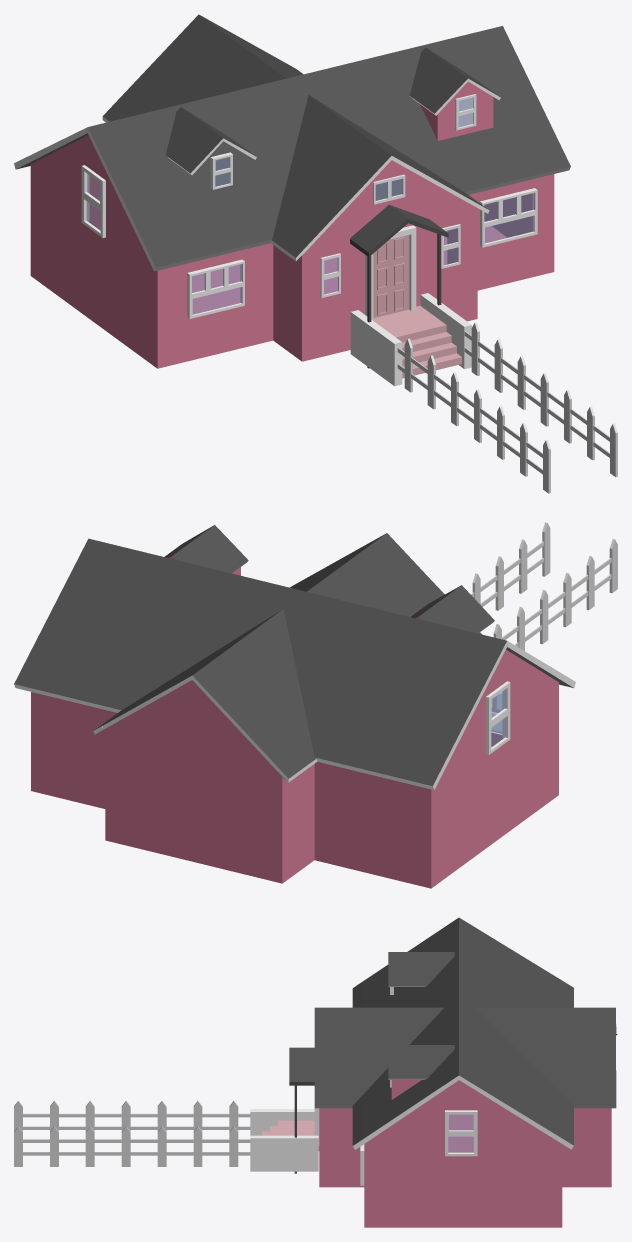
File: maison_level1_petites_barrieres.fbx
3 renders of one model, top to bottom at view 1: azimuth 30°, elevation 25°; view 2: azimuth 150°, elevation 25°; view 3: azimuth 270°, elevation 25°, orthographic. The views are drawn at different scales.
Parts seen in each view (by area): view 1: toit.002, Maison.002, toit2.002, Maison_avant.002, Barrieres_grandes.002, Fenetres_grandes.002, petit_toit.002, Muret_escalier.002, Escalier.002, Porte_entrée.002, Barrieres2.002, Toit_porche.002 (+7 smaller); view 2: toit.002, Maison.002, Maison_avant.002, toit2.002, petit_toit.002, Barrieres_grandes.002, Barrieres2.002, Fentres_cote.002; view 3: toit.002, Maison.002, toit2.002, Maison_avant.002, Barrieres_grandes.002, petit_toit.002, Muret_escalier.002, Barrieres2.002, Fentres_cote.002, Toit_porche.002, Escalier.002.
Part boxes in pixels (bbox=[...]): toit.002: bbox=[14, 26, 570, 271]; Maison.002: bbox=[30, 135, 554, 368]; toit2.002: bbox=[102, 14, 489, 261]; Maison_avant.002: bbox=[273, 160, 477, 361]; Barrieres_grandes.002: bbox=[404, 322, 617, 493]; Fenetres_grandes.002: bbox=[187, 188, 537, 318]; petit_toit.002: bbox=[165, 47, 500, 175]; Muret_escalier.002: bbox=[350, 293, 471, 386]; Escalier.002: bbox=[373, 305, 461, 378]; Porte_entrée.002: bbox=[373, 235, 409, 318]; Barrieres2.002: bbox=[397, 331, 609, 474]; Toit_porche.002: bbox=[350, 204, 448, 256]; toit.002: bbox=[14, 538, 575, 789]; Maison.002: bbox=[31, 650, 558, 888]; Maison_avant.002: bbox=[105, 680, 314, 883]; toit2.002: bbox=[93, 533, 481, 782]; petit_toit.002: bbox=[164, 525, 494, 633]; Barrieres_grandes.002: bbox=[472, 522, 617, 650]; Barrieres2.002: bbox=[471, 541, 611, 646]; Fentres_cote.002: bbox=[486, 681, 510, 754]; toit.002: bbox=[352, 917, 573, 1149]; Maison.002: bbox=[364, 1080, 562, 1227]; toit2.002: bbox=[314, 1007, 617, 1108]; Maison_avant.002: bbox=[319, 1108, 611, 1187]; Barrieres_grandes.002: bbox=[14, 1100, 238, 1166]; petit_toit.002: bbox=[388, 952, 454, 1079]; Muret_escalier.002: bbox=[250, 1109, 318, 1171]; Barrieres2.002: bbox=[23, 1113, 250, 1155]; Fentres_cote.002: bbox=[445, 1110, 477, 1156]; Toit_porche.002: bbox=[289, 1047, 314, 1085]; Escalier.002: bbox=[262, 1120, 319, 1150].
Bounding box in the file's own units: 1181 × 564 × 1909.
